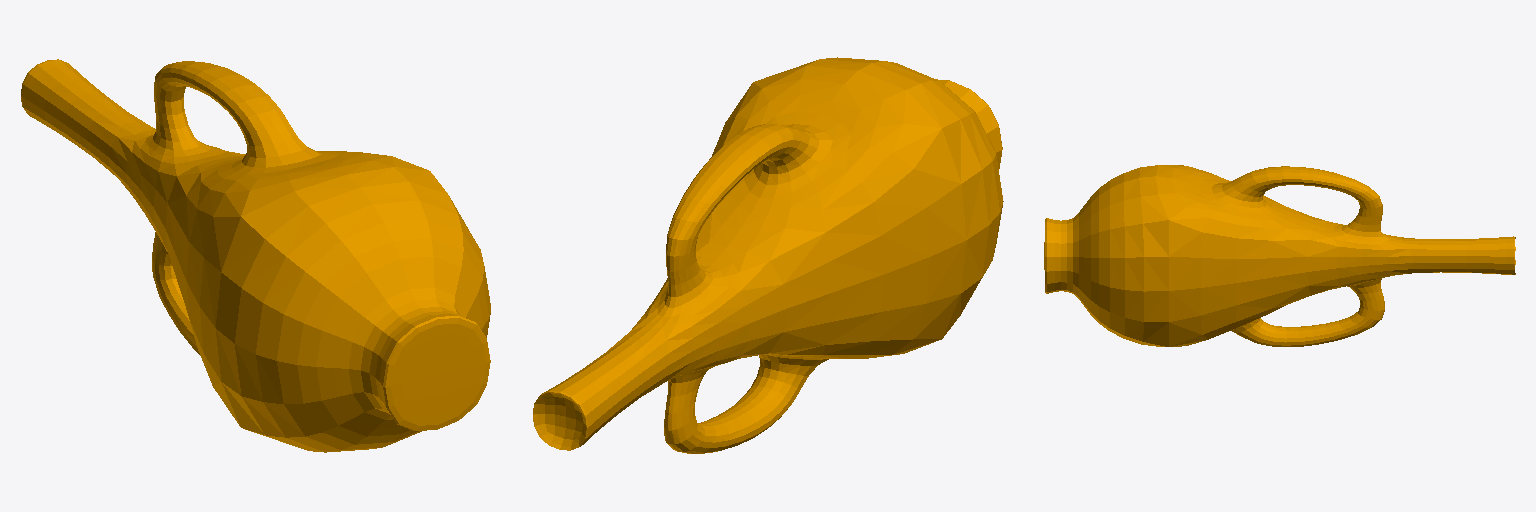
URDF robot description (217):
<?xml version="1.0" ?>
<robot name="217">
  <link name="body">
    <visual>
      <geometry>
        <mesh filename="../shapes/217.obj"/>
      </geometry>
    </visual>
    <collision>
      <geometry>
        <mesh filename="../shapes/217.obj"/>
      </geometry>
    </collision>
  </link>
</robot>

--- What the picture shows (computed from the rendered views, not written in the file) ---
The picture shows the robot from 3 angles, left to right: view 1: azimuth 30°, elevation 25°; view 2: azimuth 150°, elevation 25°; view 3: azimuth 270°, elevation 25°; orthographic projection.
Robot: 217 — 1 links, 0 joints (none); root link body; default pose: every joint at zero.
Links seen in each view (by area): view 1: body; view 2: body; view 3: body.
Boxes of the visible links, bbox=[...] form: body: bbox=[21, 59, 490, 452]; body: bbox=[533, 57, 1003, 453]; body: bbox=[1044, 165, 1515, 346].
Bounding box of the posed robot: 5.78 × 16.15 × 6.64 m (x, y, z).
1 mesh visuals loaded from 1 distinct referenced files (1 OBJ).